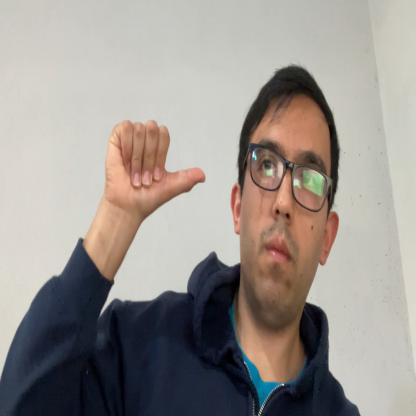A: (104, 119, 206, 218)
